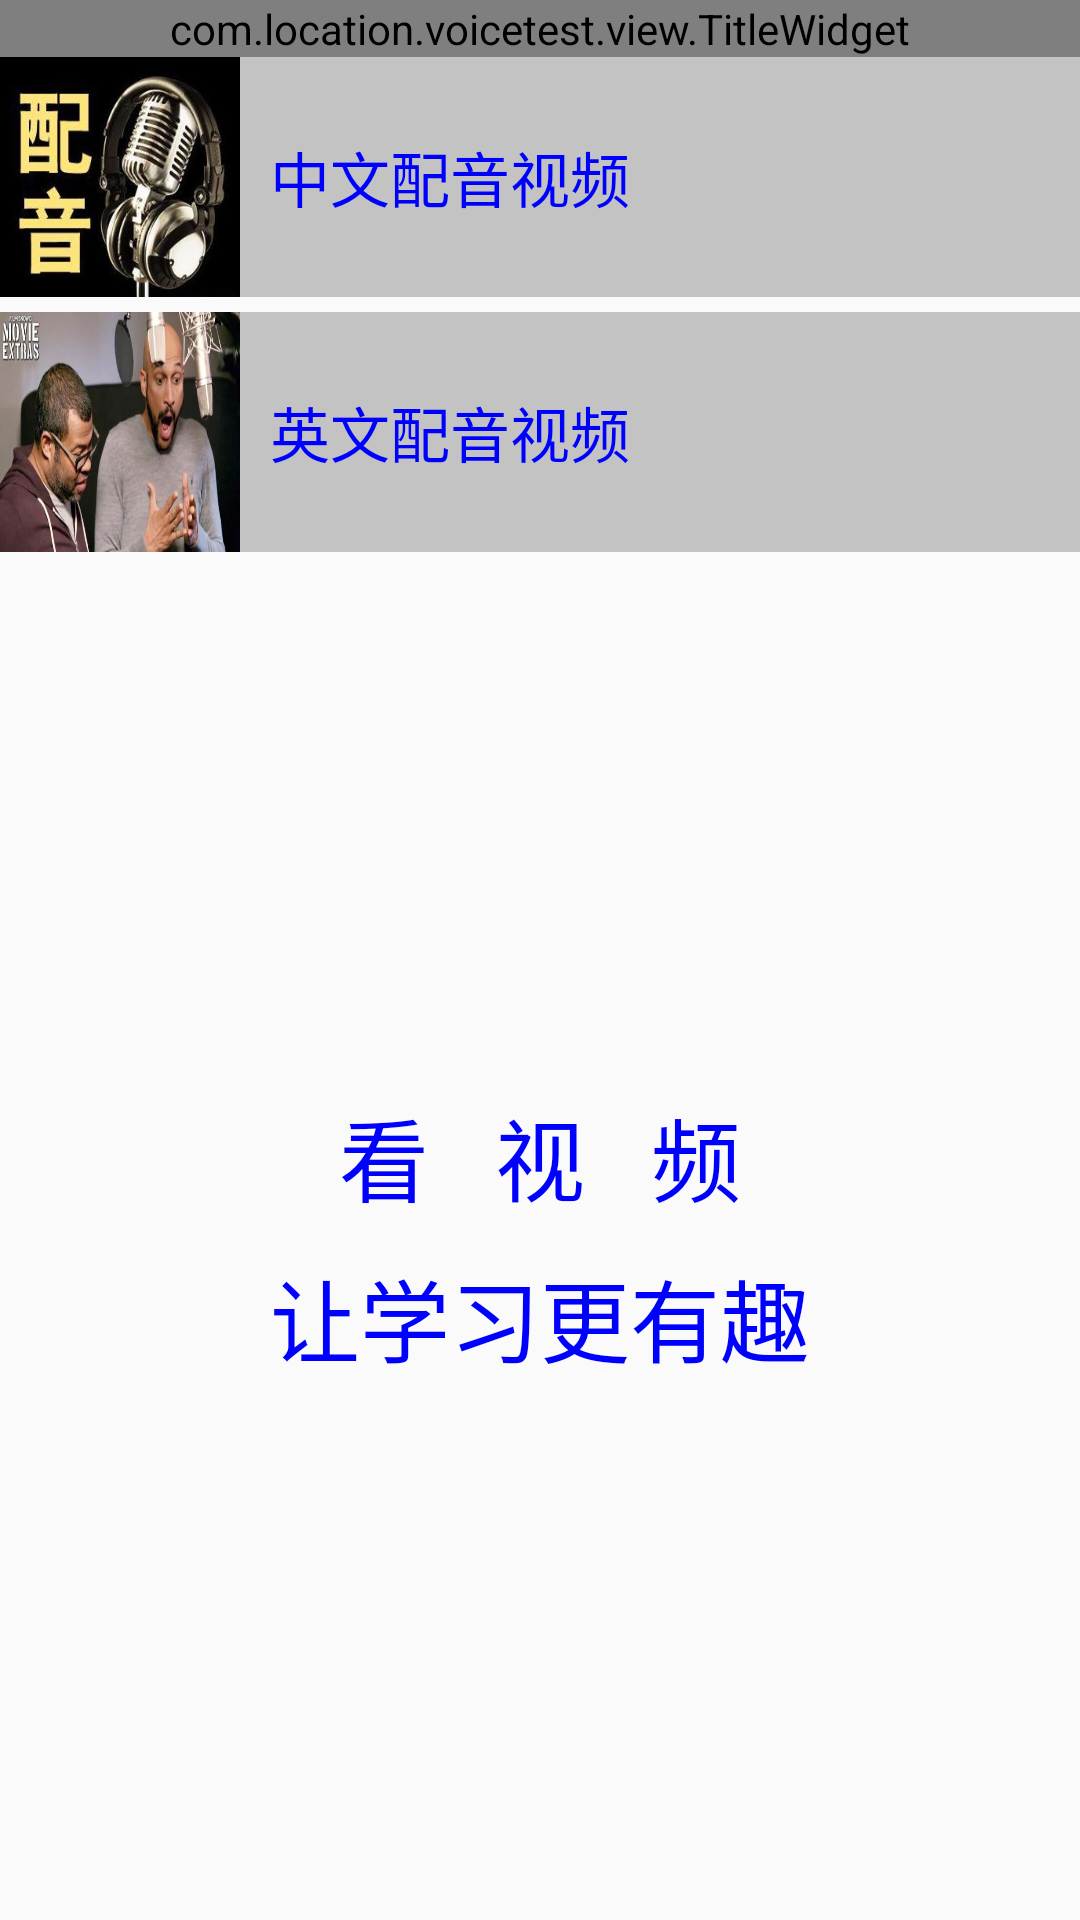

Screen size 1080 x 1920. Icon name, then its box in pixels as (x1, y1, x2, y2):
englishdubb: (0, 312, 240, 552)
